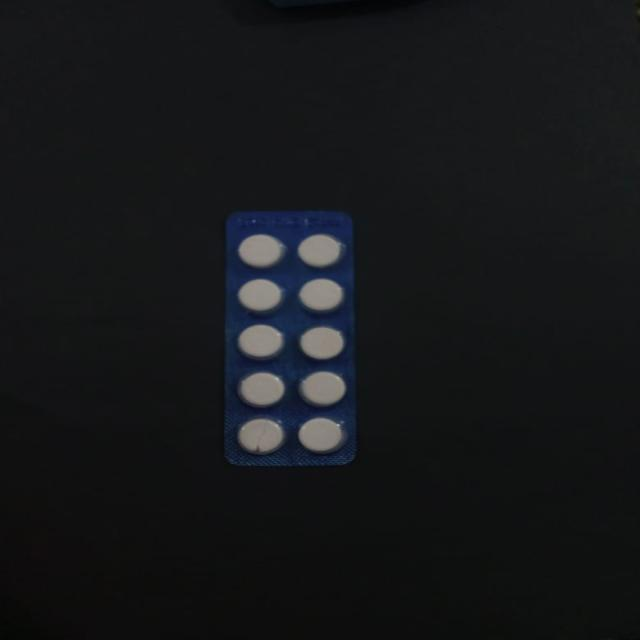defect: (235, 416, 287, 456)
